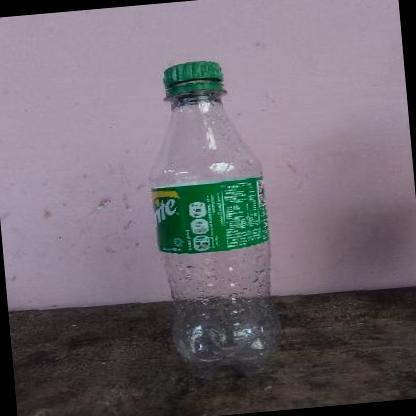plastic_bottles: (138, 55, 288, 389)
